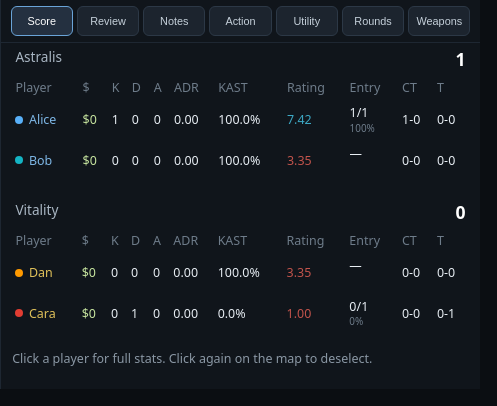
Test case: Sidebar › switches tabs
Click the button "Notes" at (174, 21), box [143,6,205,36]
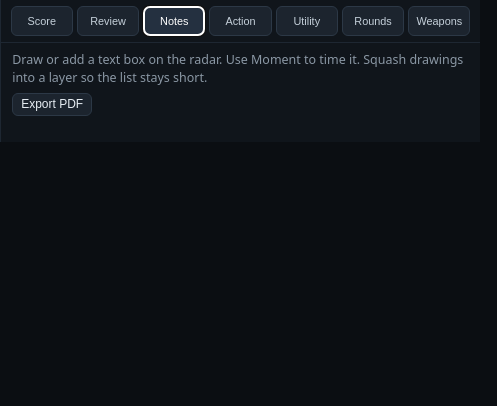
Result: the text "Draw or add a text box" is shown at [12,51,463,86]
Result: the button "Export PDF" is shown at [12,93,92,116]
Click the button "Weapons" at (439, 21), box [408,6,470,36]
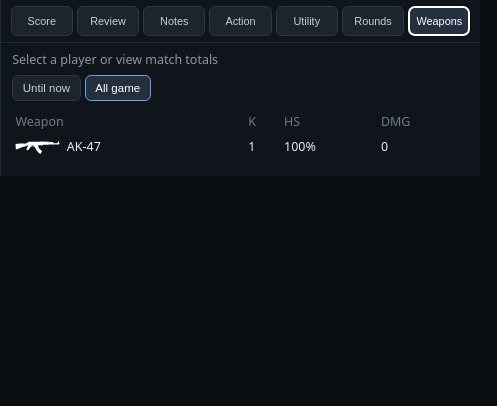
Result: the text "Select a player or view match totals" is shown at [12,51,218,68]
